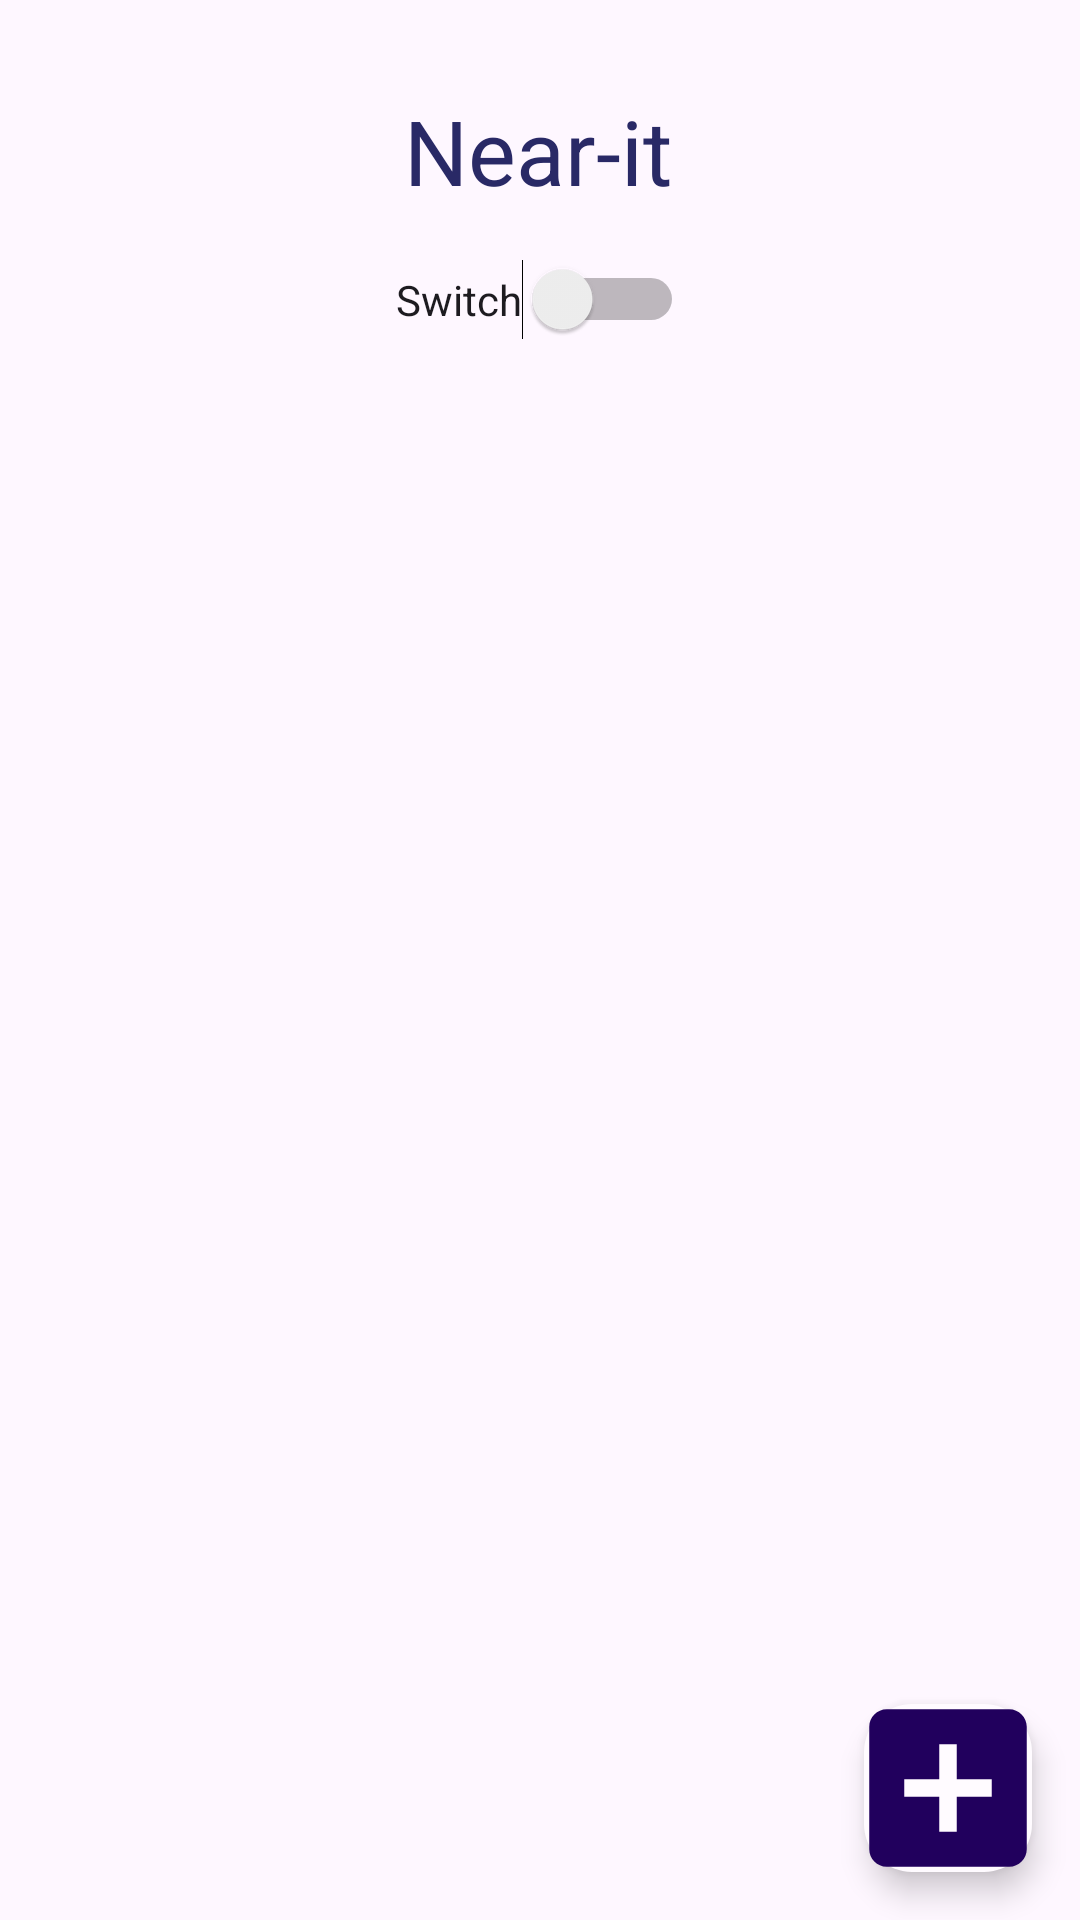

Icon bounding boxes for this 1080 × 1920 phone screenshot, format [x1,y1,x2,y2]:
add box: [869,1709,1032,1872]
